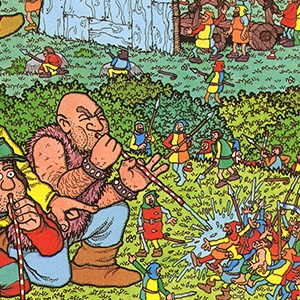Wizard Whitebeard: (229, 136, 243, 164)
